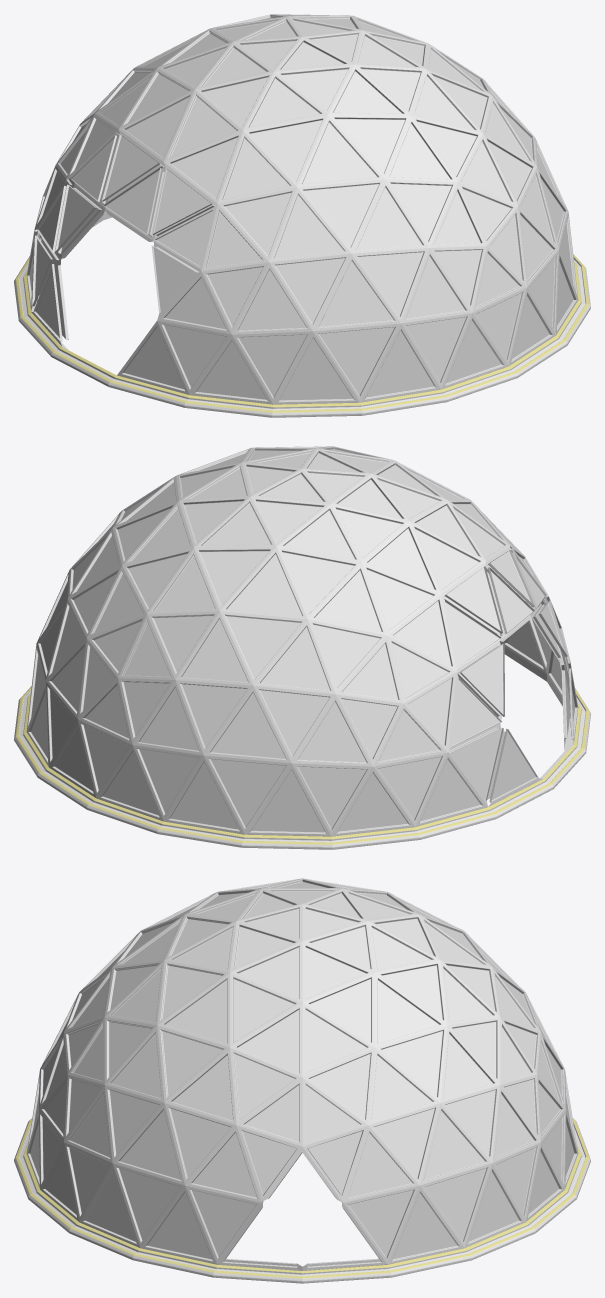
File: domo.fbx
3 renders of one model, top to bottom at view 1: azimuth 30°, elevation 25°; view 2: azimuth 150°, elevation 25°; view 3: azimuth 270°, elevation 25°, orthographic.
Visible parts, largest first — view 1: Icosphere.001; view 2: Icosphere.001; view 3: Icosphere.001.
Part boxes in pixels (box(x1,y1,x2,y2)): Icosphere.001: box(14, 14, 590, 417); Icosphere.001: box(14, 446, 590, 849); Icosphere.001: box(14, 878, 590, 1283).
Size of the model in its own units: 413 by 204 by 413.
